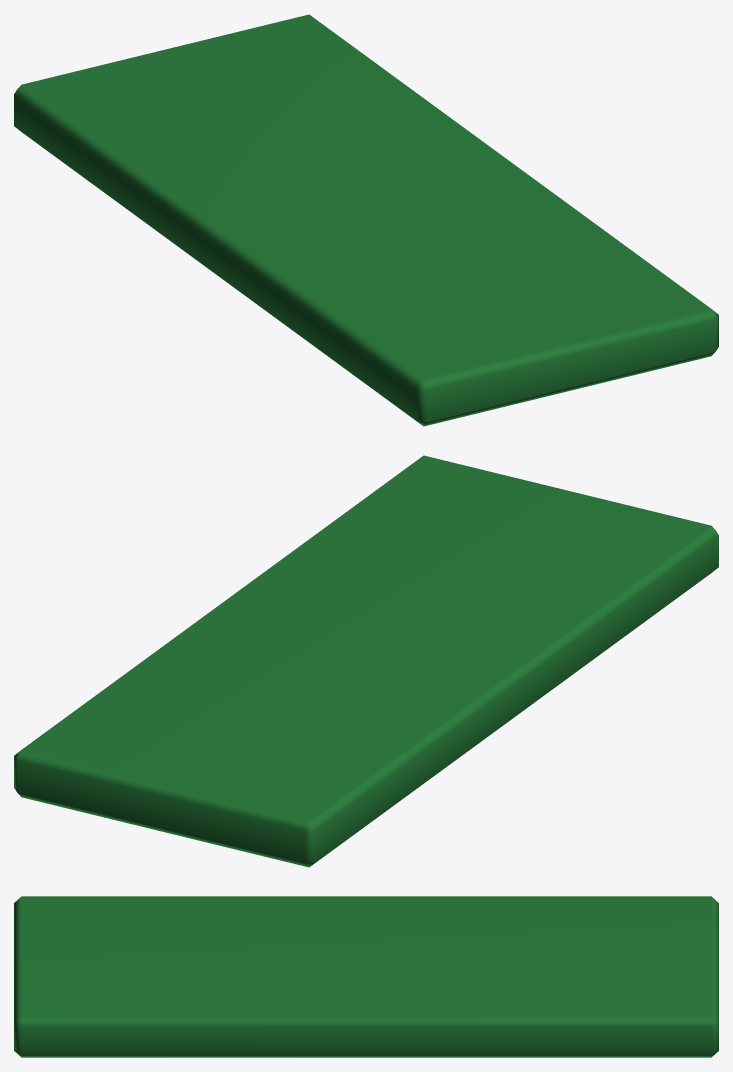
File: EnergyBar.fbx
3 views of the same model, one above another, from view 1: azimuth 30°, elevation 25°; view 2: azimuth 150°, elevation 25°; view 3: azimuth 270°, elevation 25° (orthographic). The views are drawn at different scales.
Visible parts, largest first — view 1: polySurface149; view 2: polySurface149; view 3: polySurface149.
Boxes of the visible parts, x1=… form: polySurface149: x1=14, y1=14, x2=718, y2=426; polySurface149: x1=14, y1=455, x2=718, y2=867; polySurface149: x1=14, y1=896, x2=718, y2=1057.
Size of the model in its own units: 20 by 3 by 47.
